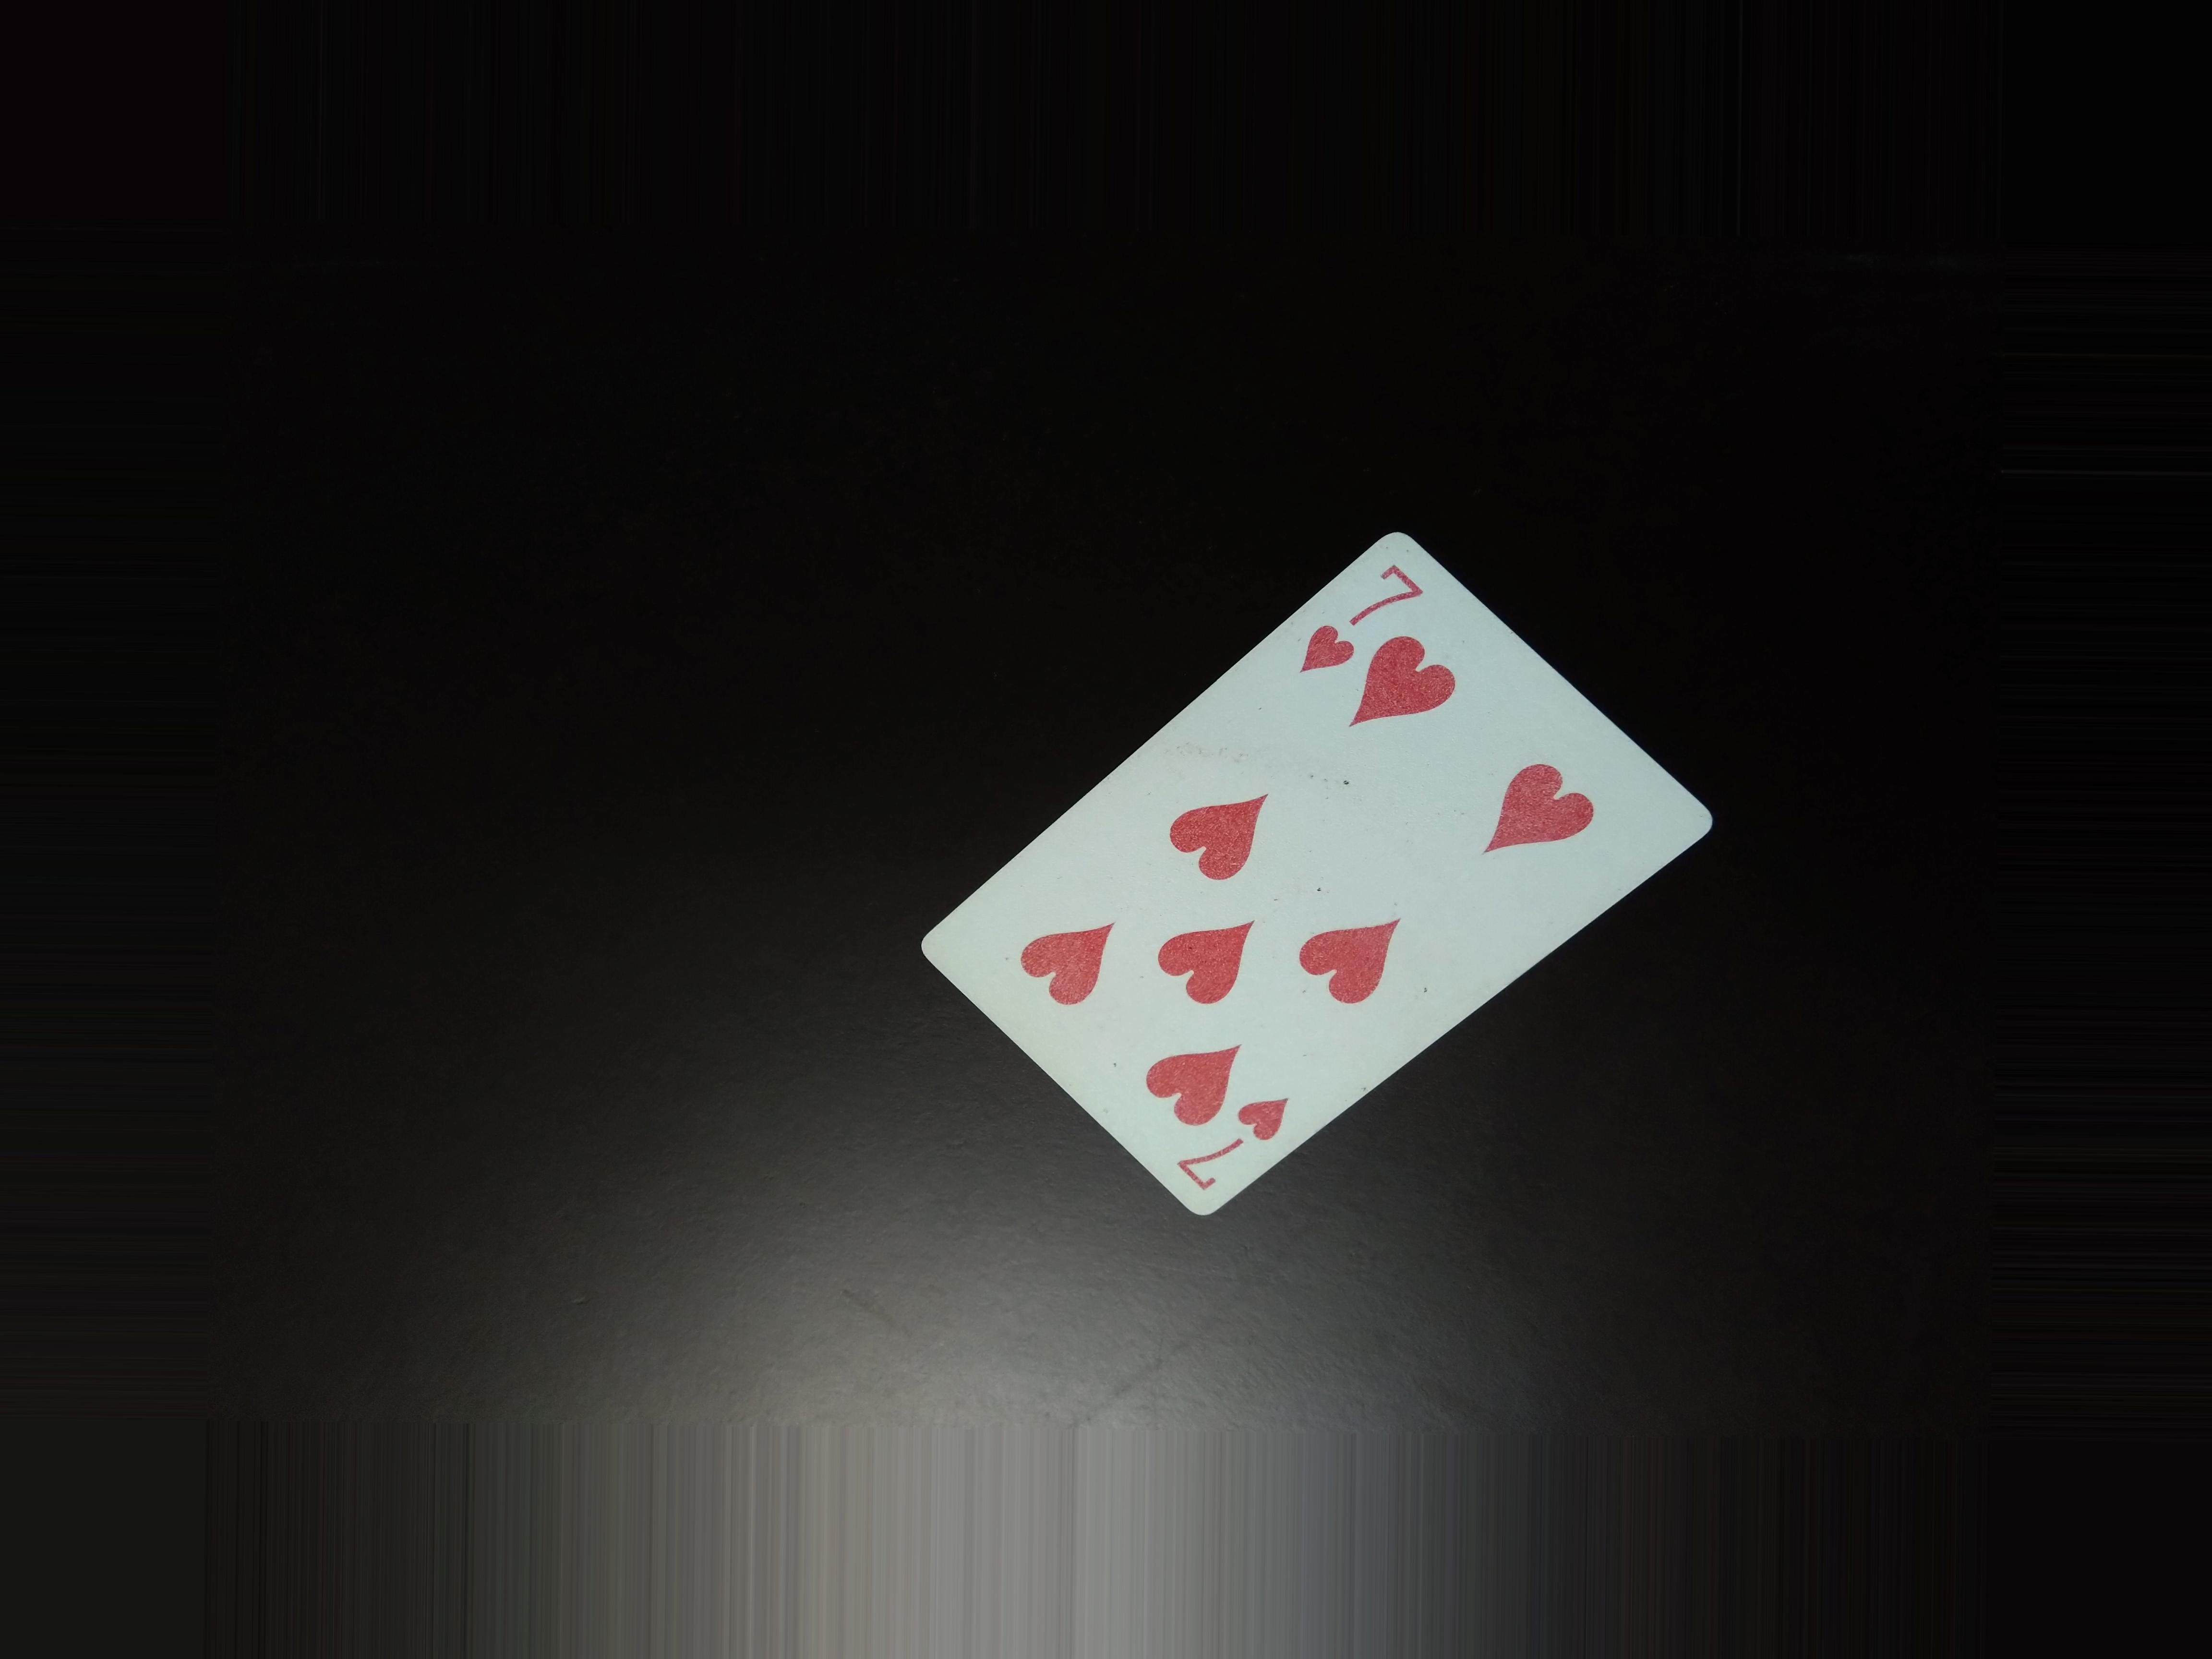7H: (1271, 554, 1430, 685)
